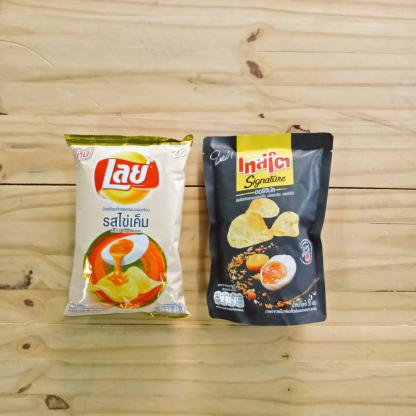potatochip: (202, 130, 335, 326), (62, 132, 192, 319)
